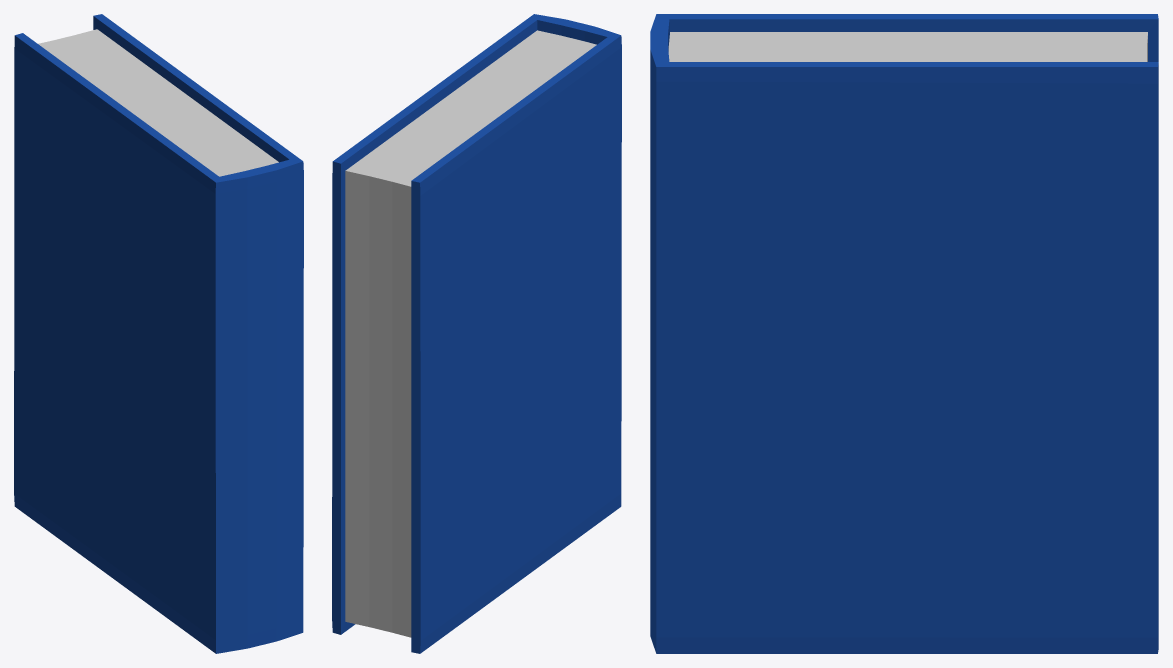
File: book.fbx
The picture shows the model from 3 angles, left to right: view 1: azimuth 30°, elevation 25°; view 2: azimuth 150°, elevation 25°; view 3: azimuth 270°, elevation 25°; orthographic projection. The views are drawn at different scales.
Visible parts, largest first — view 1: Book; view 2: Book; view 3: Book.
Part boxes in pixels (x1=…): Book: x1=14, y1=14, x2=303, y2=653; Book: x1=332, y1=14, x2=621, y2=653; Book: x1=650, y1=14, x2=1158, y2=653.
Bounding box in the file's own units: 5.74 × 29.13 × 22.87.
